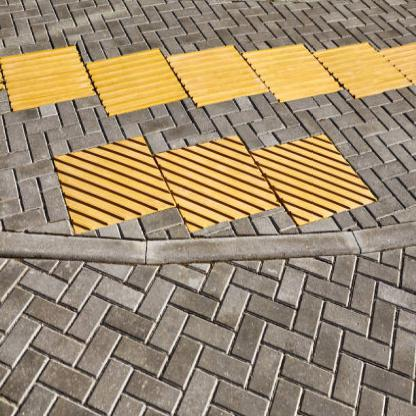podotacti: (55, 131, 376, 234), (0, 40, 413, 113)
